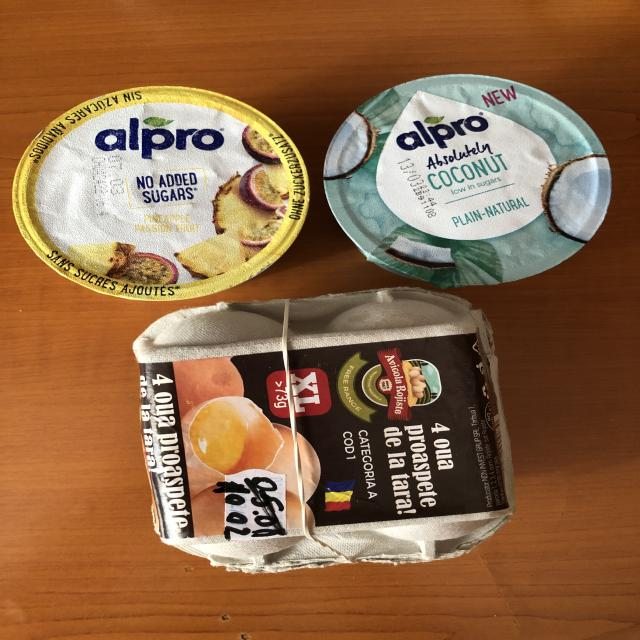eggs: (133, 288, 519, 576)
yogurt: (7, 80, 314, 304), (320, 70, 617, 288)
